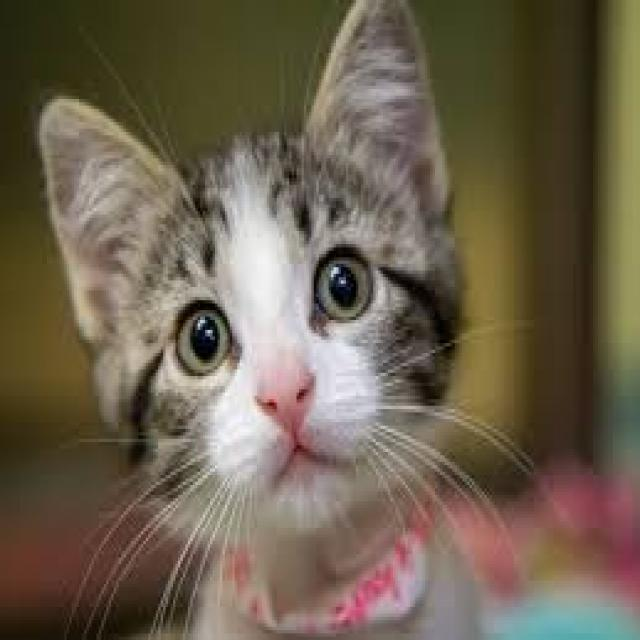Cat: (33, 0, 474, 640)
